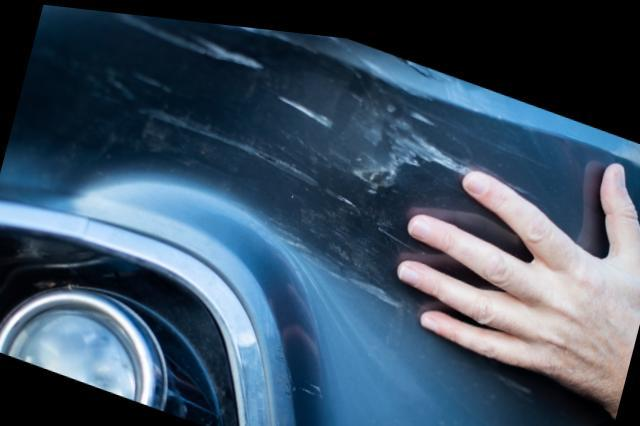dent: (66, 9, 403, 301)
scratch: (396, 101, 465, 166)
